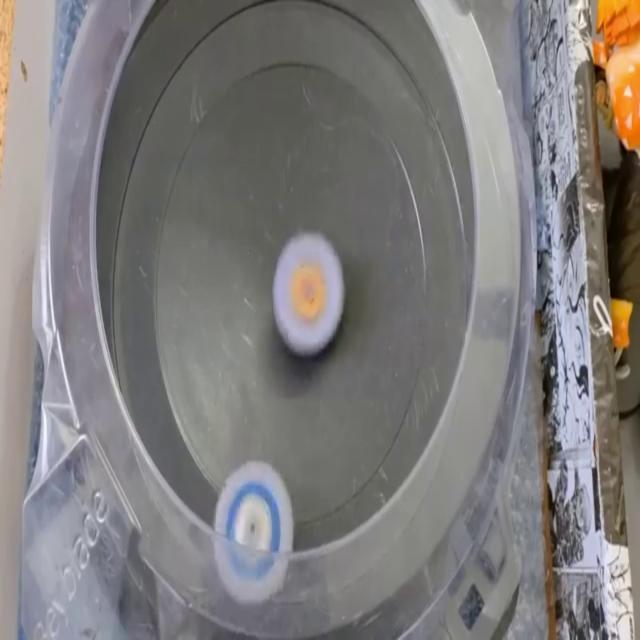Beyblade: (212, 464, 294, 601), (272, 231, 346, 351)
